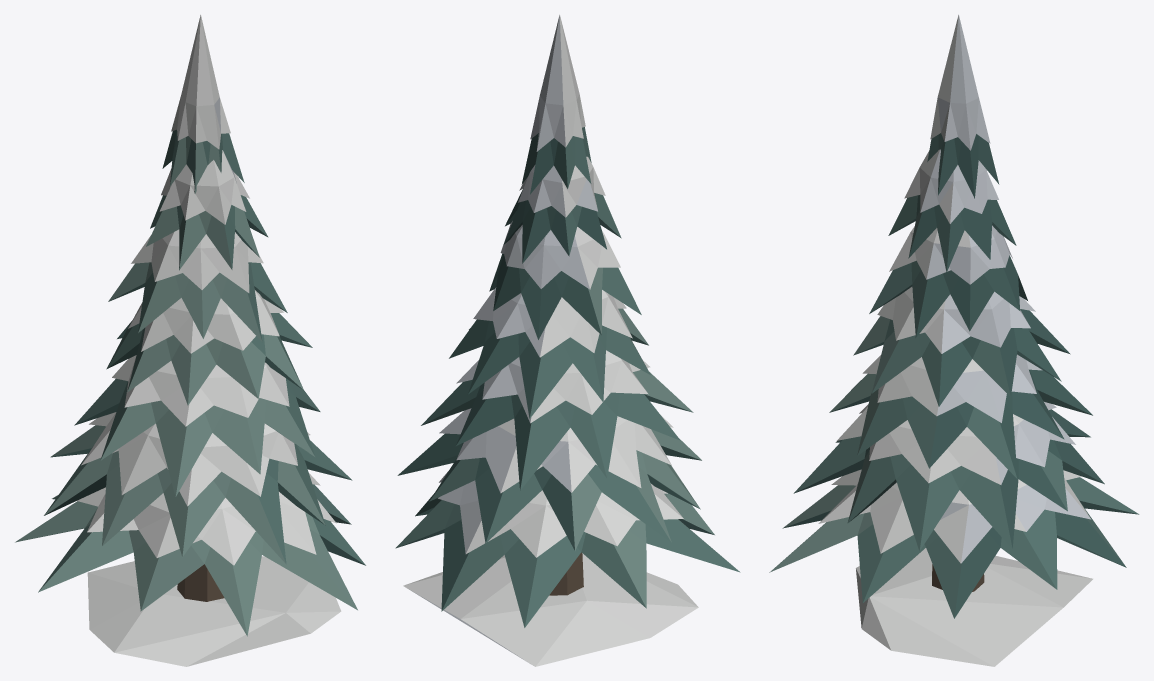
Rendered from tree_arctic_0.glb.
The picture shows the model from 3 angles, left to right: view 1: azimuth 30°, elevation 25°; view 2: azimuth 150°, elevation 25°; view 3: azimuth 270°, elevation 25°; orthographic projection. The views are drawn at different scales.
Parts seen in each view (by area): view 1: Body; view 2: Body; view 3: Body.
Boxes of the visible parts, <box> form: Body: <box>15,14,365,666</box>; Body: <box>395,14,740,666</box>; Body: <box>769,14,1139,666</box>.
Bounding box in the file's own units: 4.11 × 7.5 × 4.19.
